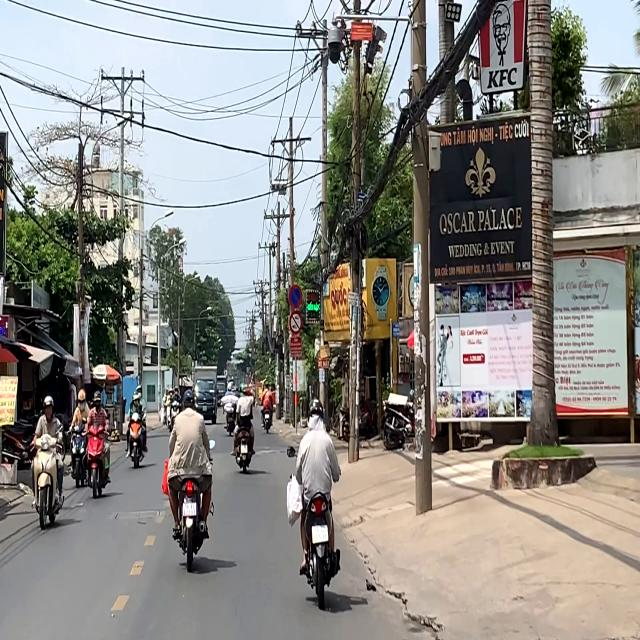P.131a: (289, 284, 302, 308)
